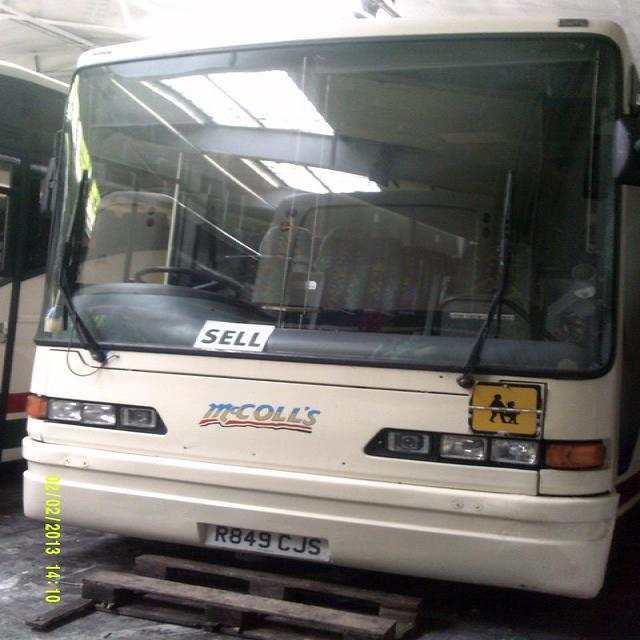Bus: (22, 21, 640, 591), (0, 63, 67, 466)
